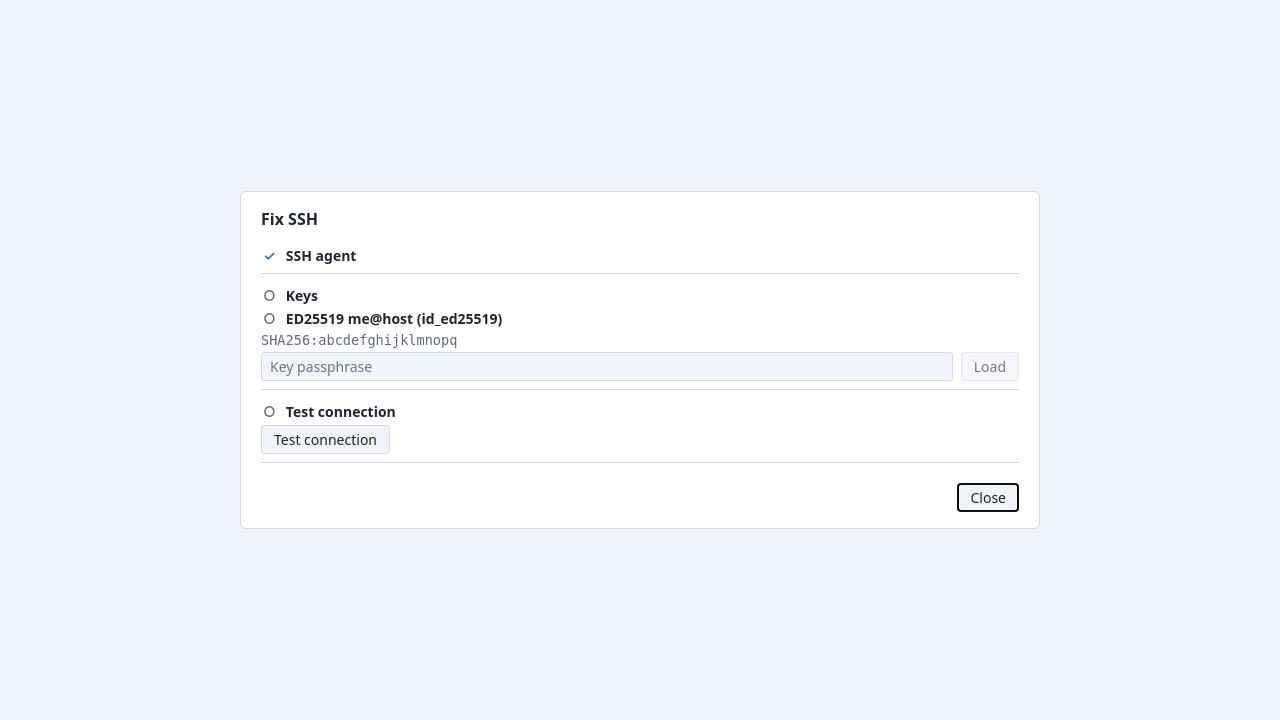
SshFixDialog › keeps Load disabled for an encrypted key until a passphrase is typed
Expected: the button "Load" is disabled, [961,352,1019,381]
Type "x" into the password field named "Passphrase for" at (607, 366), box [261,352,953,381]
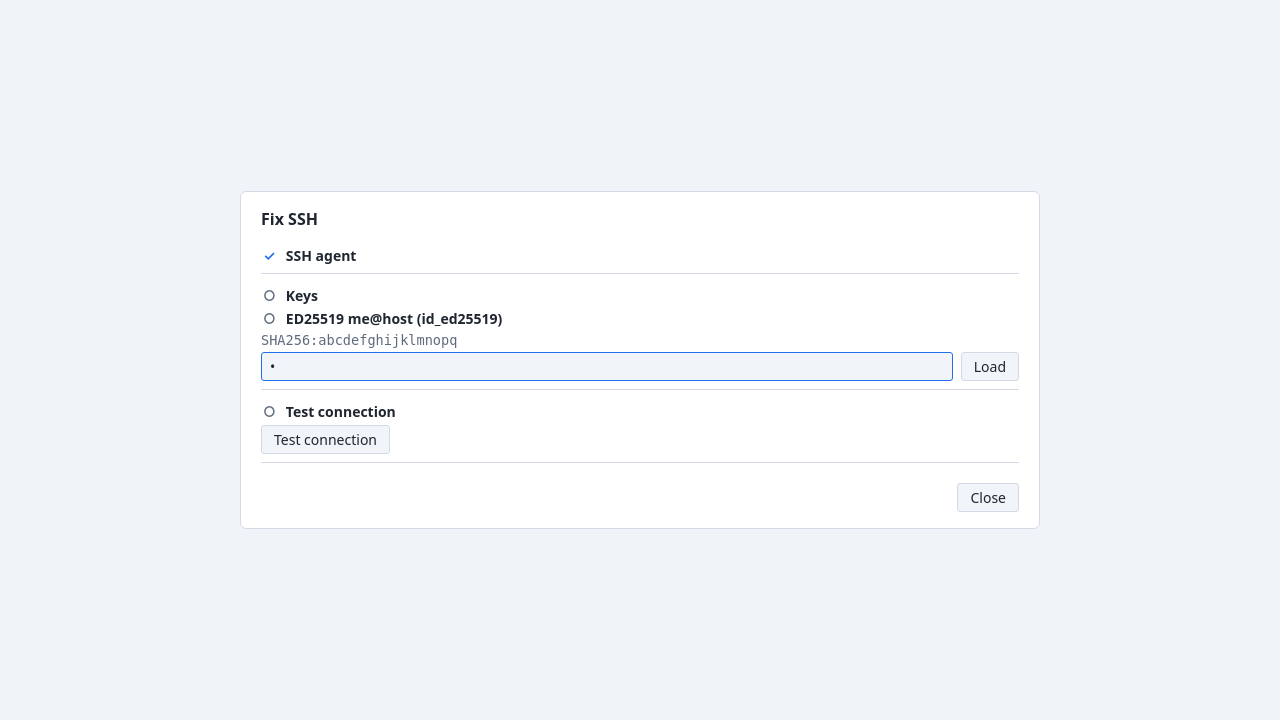
Now the button "Load" is enabled, box [961,352,1019,381]
